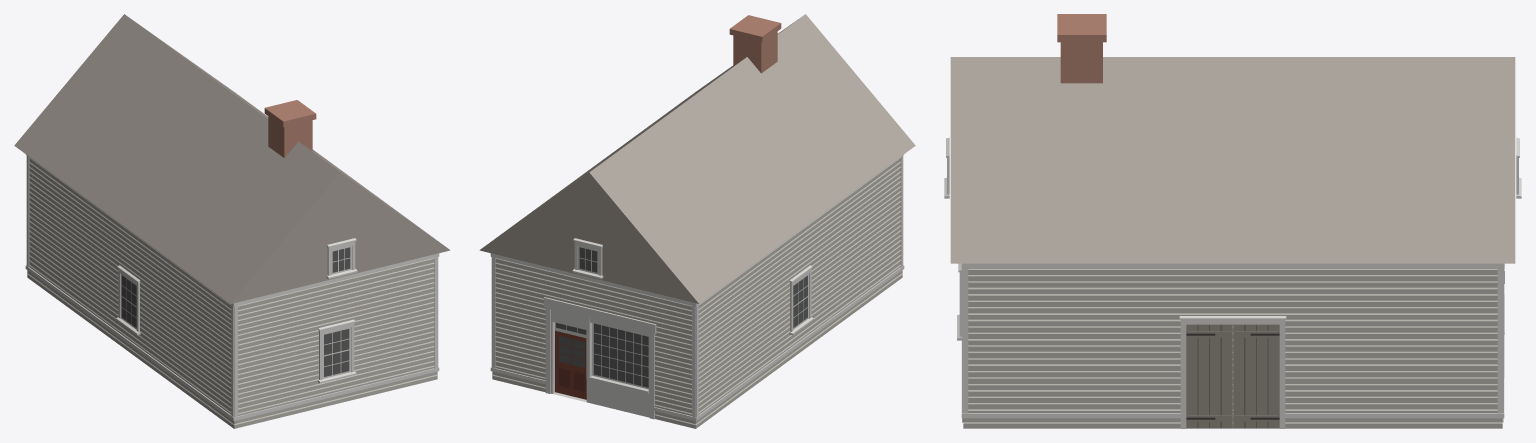
Rendered from recon_1835_blk_lake_market_c2_01__inferred_1835.glb.
The picture shows the model from 3 angles, left to right: view 1: azimuth 30°, elevation 25°; view 2: azimuth 150°, elevation 25°; view 3: azimuth 270°, elevation 25°; orthographic projection. The views are drawn at different scales.
Parts seen in each view (by area): view 1: recon_1835_blk_lake_market_c2_01__inferred_1835; view 2: recon_1835_blk_lake_market_c2_01__inferred_1835; view 3: recon_1835_blk_lake_market_c2_01__inferred_1835.
Part boxes in pixels (box(x1,y1,x2,y2)): recon_1835_blk_lake_market_c2_01__inferred_1835: box(14, 14, 450, 428); recon_1835_blk_lake_market_c2_01__inferred_1835: box(479, 14, 915, 428); recon_1835_blk_lake_market_c2_01__inferred_1835: box(944, 14, 1521, 428).
Bounding box in the file's own units: 6.58 × 7.43 × 11.45.
